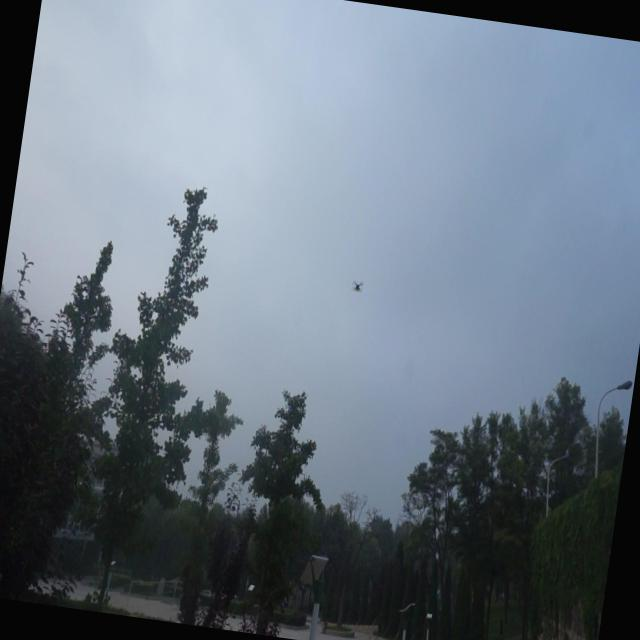drone: (350, 276, 366, 296)
